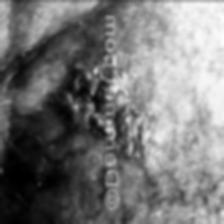Potentially Malignant Skin Tumors: (116, 104, 163, 168), (57, 90, 94, 130), (72, 66, 98, 95), (93, 113, 115, 139)
